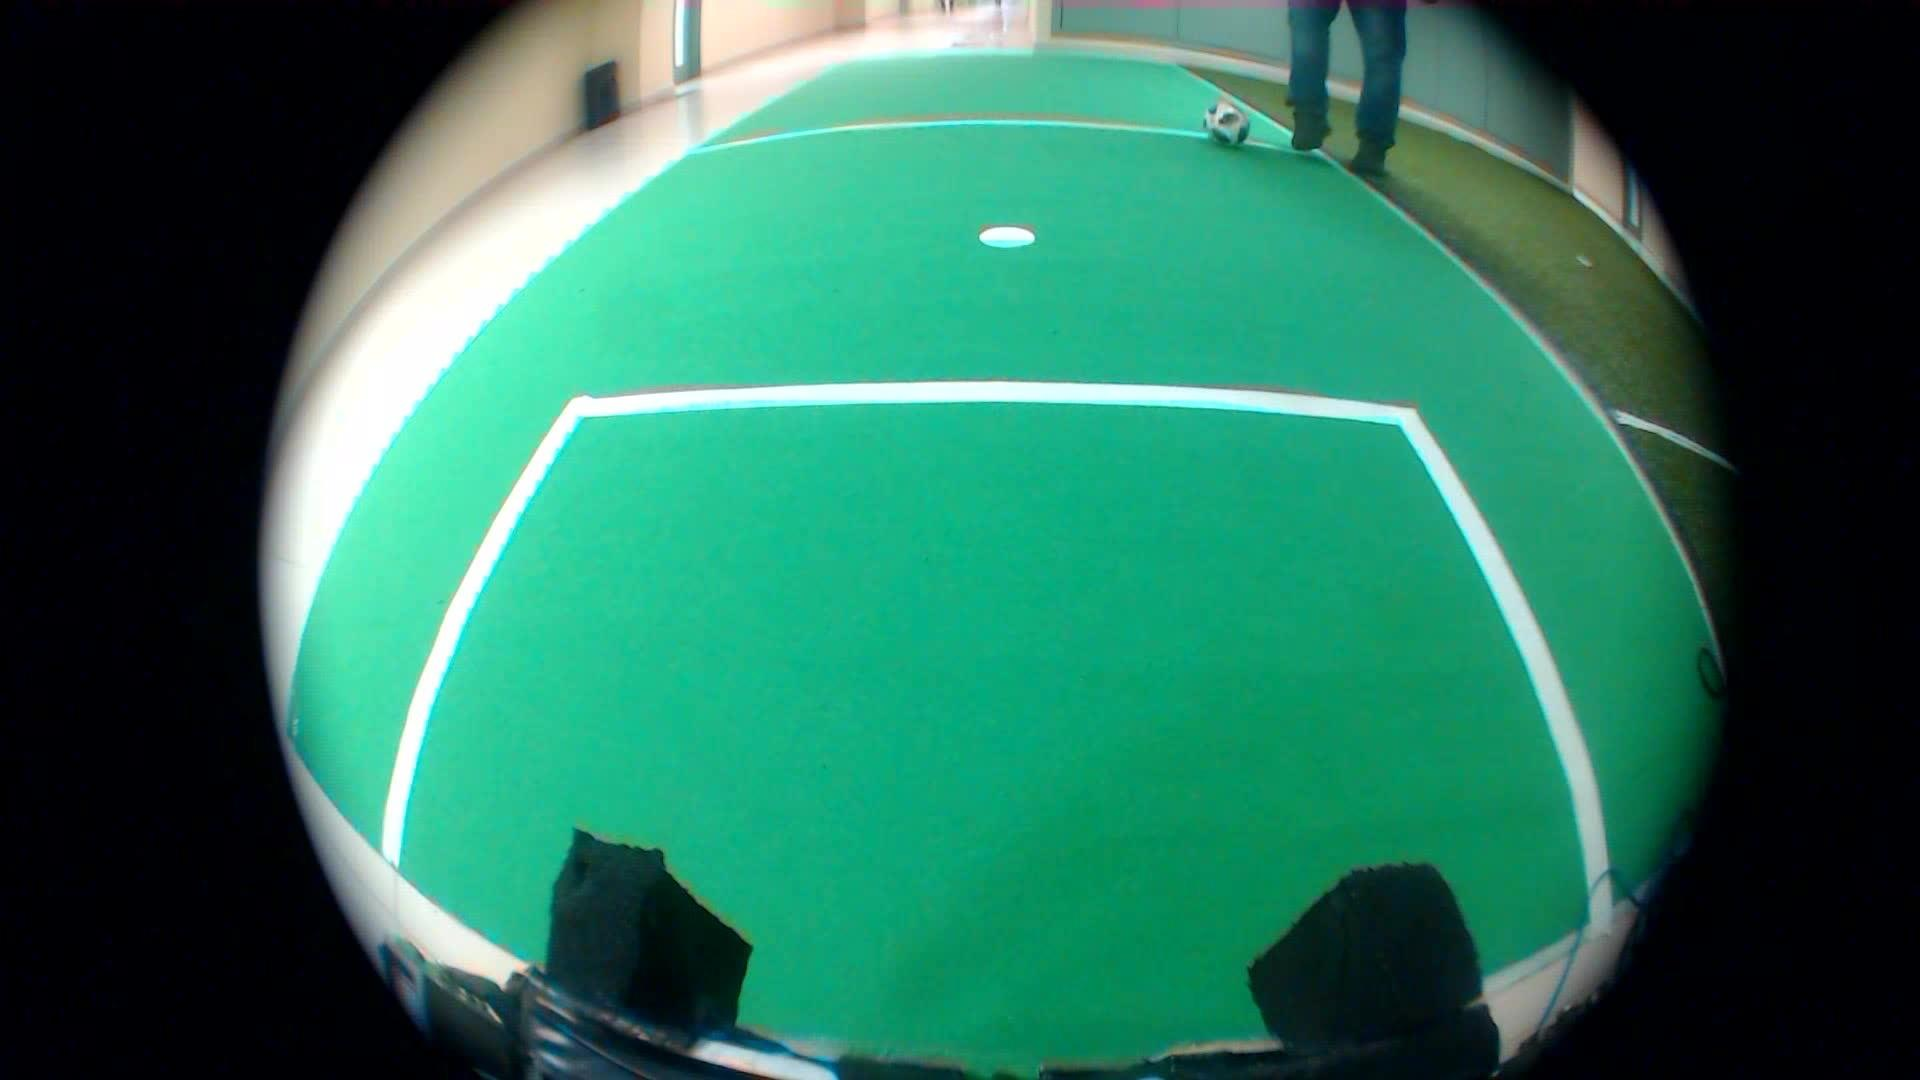ball: (1196, 84, 1250, 158)
